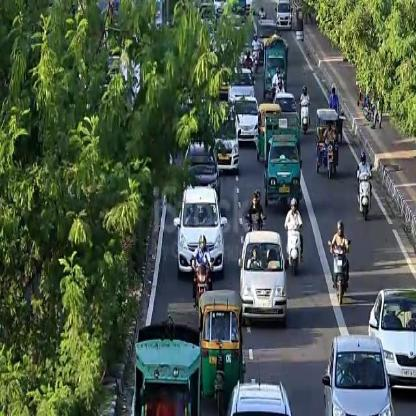auto-rikshaw: (197, 288, 242, 400)
bike: (315, 107, 339, 178), (327, 237, 351, 303), (192, 259, 214, 309), (284, 218, 302, 274), (356, 163, 372, 219)
car: (321, 332, 395, 414), (237, 226, 289, 328), (172, 182, 226, 278), (211, 112, 241, 176), (232, 93, 260, 146)
truck: (261, 130, 303, 210)
